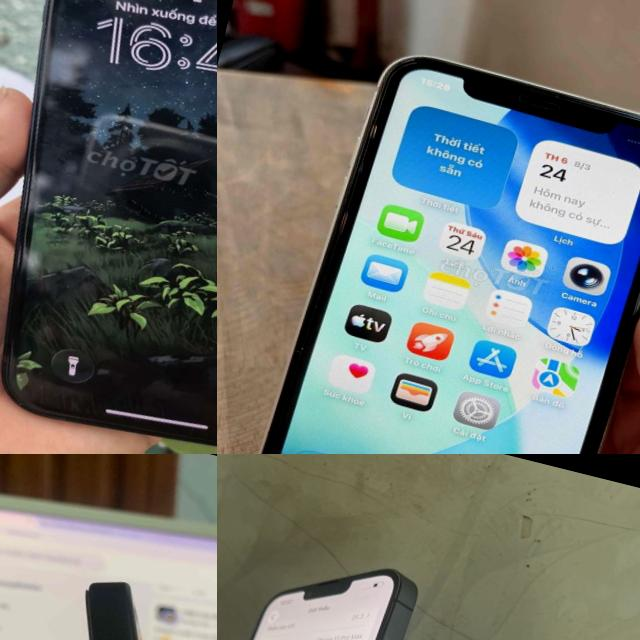gen_11: (248, 30, 640, 454)
gen_12_13: (0, 0, 217, 454), (217, 524, 432, 640)
scratch: (536, 85, 568, 108)
